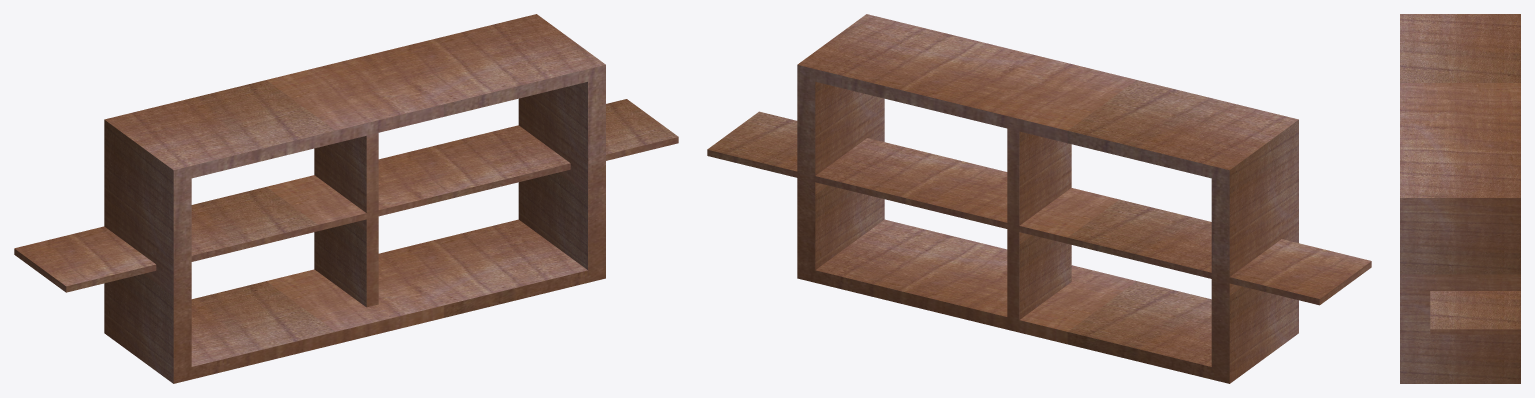
Rendered from mensola.obj.
The picture shows the model from 3 angles, left to right: view 1: azimuth 30°, elevation 25°; view 2: azimuth 150°, elevation 25°; view 3: azimuth 270°, elevation 25°; orthographic projection. The views are drawn at different scales.
Visible parts, largest first — view 1: Rectangle03_1, Box67_2, Box68_3; view 2: Rectangle03_1, Box67_2, Box68_3; view 3: Rectangle03_1, Box67_2.
Boxes of the visible parts, x1=… form: Rectangle03_1: x1=104, y1=14, x2=605, y2=383; Box67_2: x1=14, y1=99, x2=678, y2=292; Box68_3: x1=314, y1=133, x2=378, y2=307; Rectangle03_1: x1=797, y1=14, x2=1298, y2=383; Box67_2: x1=707, y1=111, x2=1371, y2=305; Box68_3: x1=1007, y1=128, x2=1071, y2=319; Rectangle03_1: x1=1400, y1=14, x2=1520, y2=383; Box67_2: x1=1430, y1=291, x2=1520, y2=334.
Bounding box in the file's own units: 102 × 34 × 20.
1 material, 1 textured.
